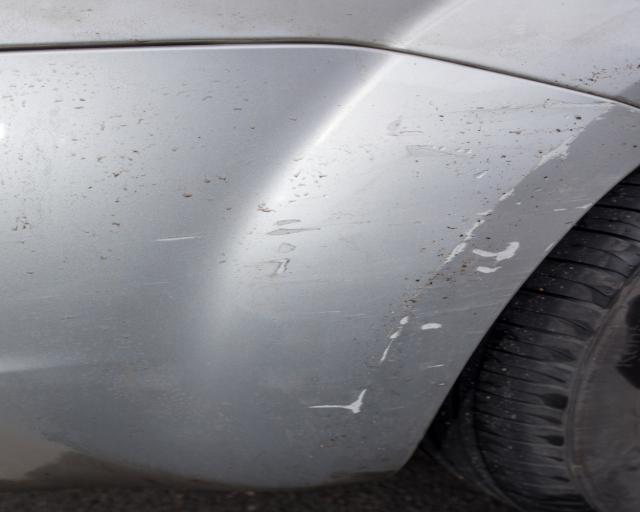scratch: (162, 100, 636, 413)
